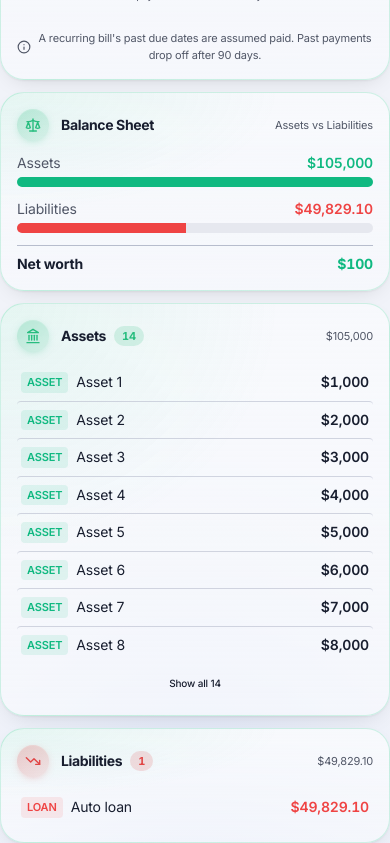
Test: F-18 Assets card shows all rows on request › previews eight rows, then lists all fourteen
The width and height of the screenshot is (390, 843).
(page scrolled)
Click the button with test id "money-assets-show-all".
click(195, 683)  # box [17, 667, 373, 699]
(page scrolled)
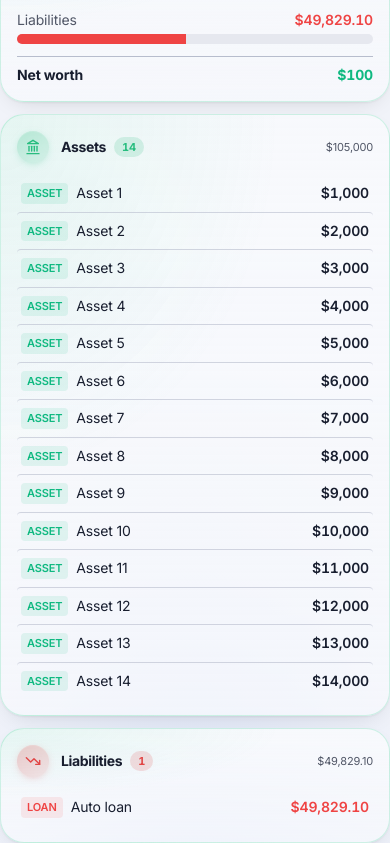
Result: the element with test id "money-asset-a14" is shown at [17, 662, 373, 699]
Result: the button with test id "money-assets-show-all" is gone
